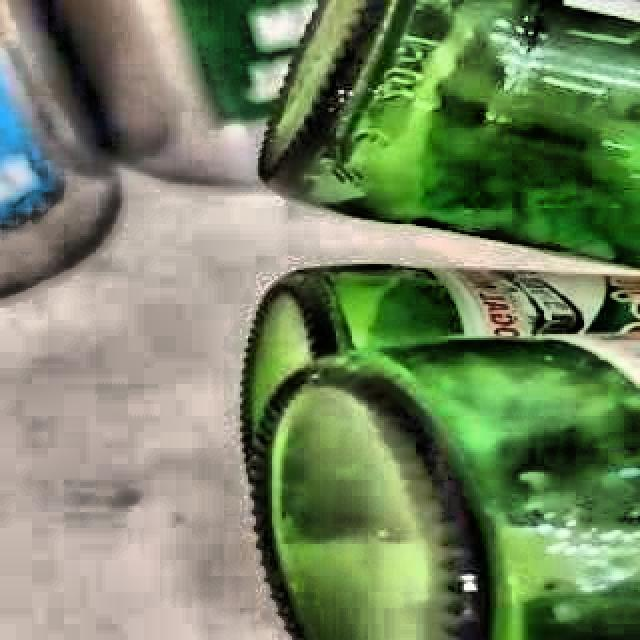glass: (240, 265, 640, 640), (264, 0, 640, 266)
